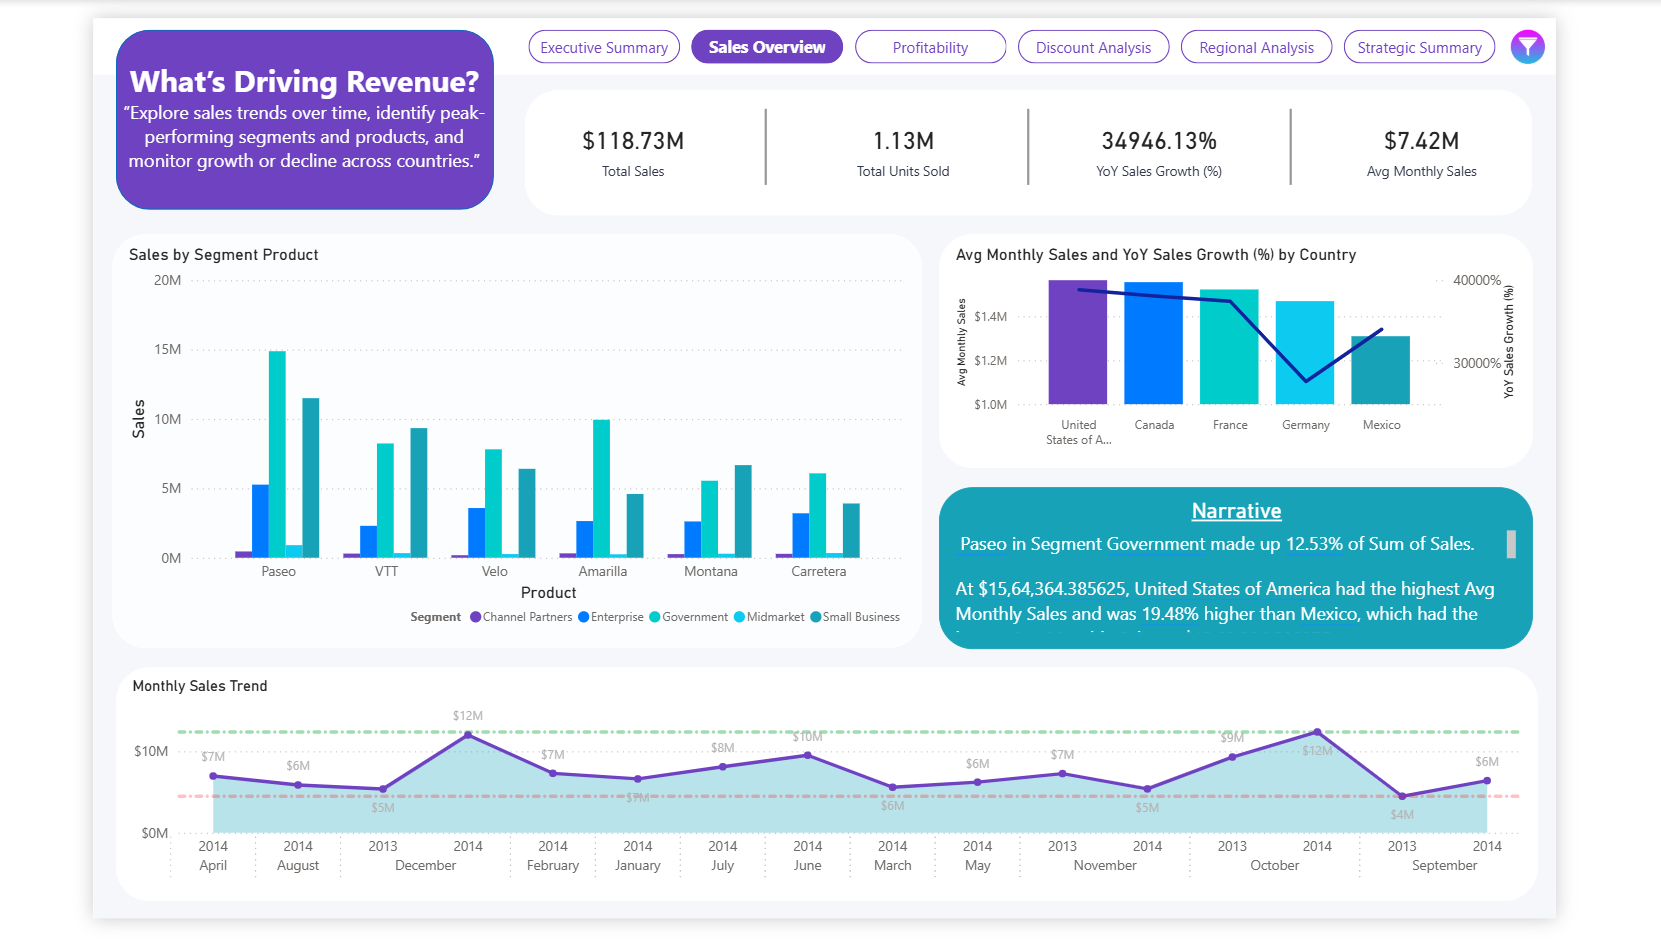

The page's visual inventory and layout, read from the dashboard file:
{"tool":"powerbi","page":{"name":"Sales Overview","canvas":[1300,800],"ordinal":1},"visuals":[{"type":"shape","box":[0,0,1300,50],"z":0},{"type":"shape","box":[384,64,896,112],"z":0,"group":"g2"},{"type":"card","fields":{"Values":["finance_data.Total Sales"]},"box":[400,74.7,160,85.3],"z":0,"group":"g1"},{"type":"pageNavigator","box":[387,10,864,30],"z":1000},{"type":"group","id":"g1","title":"Group 1","box":[400,74.7,864,85.3],"z":1000,"group":"g2"},{"type":"card","fields":{"Values":["finance_data.Total Units Sold"]},"box":[640,74.7,160,85.3],"z":1000,"group":"g1"},{"type":"image","box":[1260,10,30,30],"z":2000},{"type":"card","fields":{"Values":["finance_data.YoY Sales Growth (%)"]},"box":[865.8,74.7,165.3,85.3],"z":2000,"group":"g1"},{"type":"shape","box":[583.1,81.1,32,68.3],"z":2000,"group":"g2"},{"type":"shape","box":[20,10,336,160],"z":3000},{"type":"card","fields":{"Values":["finance_data.Avg Monthly Sales"]},"box":[1098.7,74.7,165.3,85.3],"z":3000,"group":"g1"},{"type":"shape","box":[816,81.1,32,68.3],"z":3000,"group":"g2"},{"type":"textbox","box":[20,32,335,48],"z":4000},{"type":"shape","box":[1048.9,81.1,32,68.3],"z":4000,"group":"g2"},{"type":"textbox","box":[20,66,335,80],"z":5000},{"type":"lineChart","title":"Monthly Sales Trend","fields":{"Category":["finance_data. Month Name ","finance_data.Date.Variation.Date Hierarchy.Year"],"Y":["finance_data.Total Sales"]},"box":[20,576,1264,208],"z":6000},{"type":"group","id":"g2","title":"Group 2","box":[384,64,896,112],"z":7000},{"type":"lineClusteredColumnComboChart","title":"Sales by Segment Product","fields":{"Category":["finance_data. Product "],"Series":["finance_data.Segment"],"Y":["Sum(finance_data.Sales)"]},"box":[16,192,720,368],"z":8000},{"type":"lineClusteredColumnComboChart","fields":{"Category":["finance_data.Country"],"Y":["finance_data.Avg Monthly Sales"],"Y2":["finance_data.YoY Sales Growth (%)"]},"box":[752,192,528,208],"z":9000},{"type":"textbox","title":"Narrative","box":[752,416,528,144],"z":10000}]}

Visuals, with their boxes on the page's 1300x800 design canvas (x1, y1, x2, y2). These are canvas units, not pixel positions in the 1661x946 screenshot, which may show the page scaled, cropped or inside an application window:
shape: <box>0,0,1300,50</box>
shape: <box>384,64,1280,176</box>
card - finance_data.Total Sales: <box>400,75,560,160</box>
pageNavigator: <box>387,10,1251,40</box>
"Group 1" group: <box>400,75,1264,160</box>
card - finance_data.Total Units Sold: <box>640,75,800,160</box>
image: <box>1260,10,1290,40</box>
card - finance_data.YoY Sales Growth (%): <box>866,75,1031,160</box>
shape: <box>583,81,615,149</box>
shape: <box>20,10,356,170</box>
card - finance_data.Avg Monthly Sales: <box>1099,75,1264,160</box>
shape: <box>816,81,848,149</box>
textbox: <box>20,32,355,80</box>
shape: <box>1049,81,1081,149</box>
textbox: <box>20,66,355,146</box>
"Monthly Sales Trend" lineChart: <box>20,576,1284,784</box>
"Group 2" group: <box>384,64,1280,176</box>
"Sales by Segment Product" lineClusteredColumnComboChart: <box>16,192,736,560</box>
lineClusteredColumnComboChart - finance_data.Country x finance_data.Avg Monthly Sales: <box>752,192,1280,400</box>
"Narrative" textbox: <box>752,416,1280,560</box>
